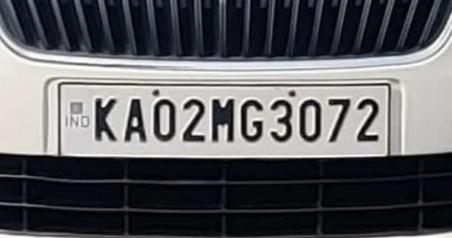0: (149, 96, 178, 143), (297, 98, 322, 144)
2: (354, 93, 381, 144), (181, 96, 207, 145)
3: (267, 96, 294, 148)
7: (324, 95, 350, 147)
A: (122, 92, 148, 145)
G: (237, 95, 267, 143)
K: (91, 88, 117, 145)
M: (209, 96, 237, 145)
